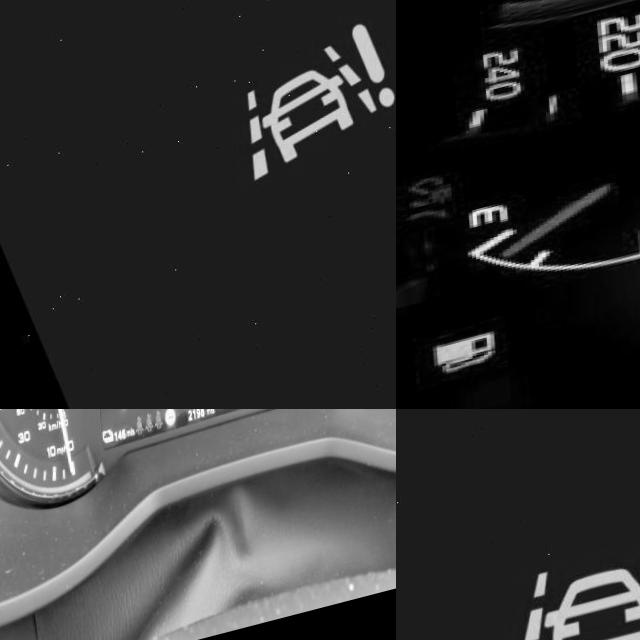Seat Belt: (127, 428, 137, 450), (137, 426, 147, 445), (148, 425, 155, 442)
